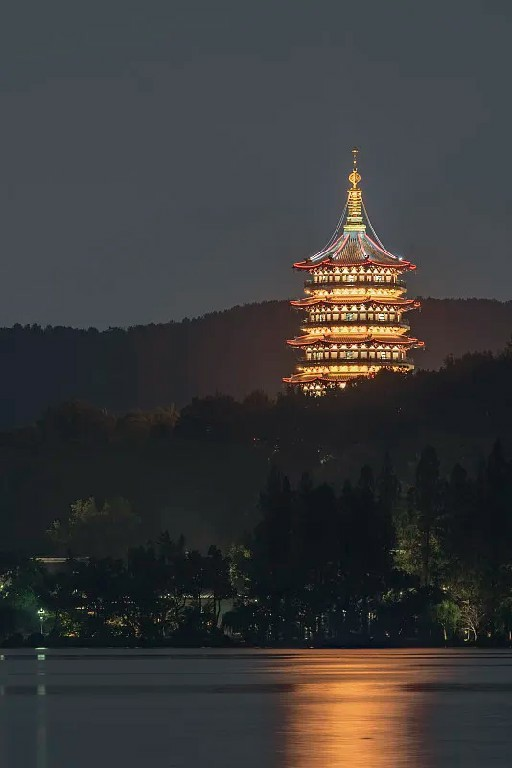Leifeng: (282, 146, 428, 400)
